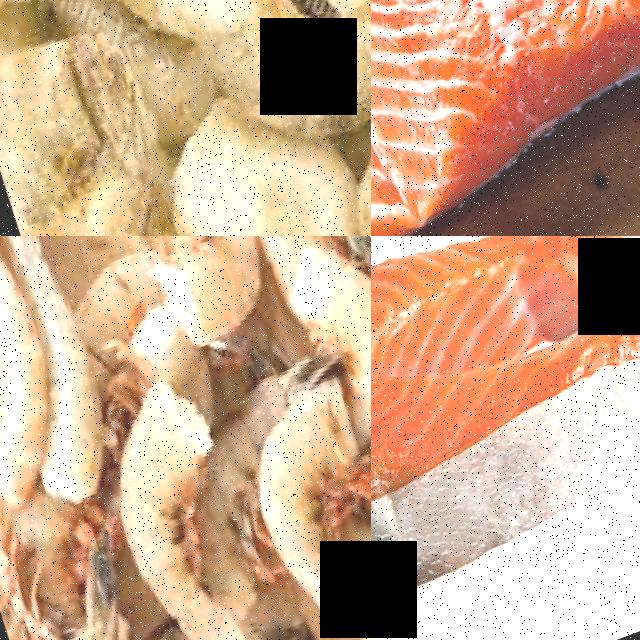salmon: (371, 236, 640, 640), (371, 0, 640, 236)
shrimp: (216, 0, 371, 157), (0, 0, 226, 54)
spinach: (76, 373, 312, 640), (225, 379, 371, 640), (0, 236, 97, 509), (105, 236, 297, 355), (281, 236, 371, 446)
